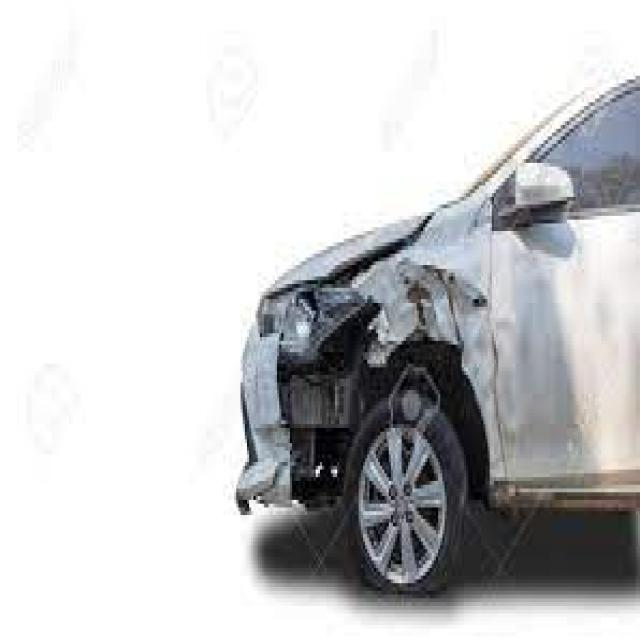moderate: (241, 183, 593, 545)
